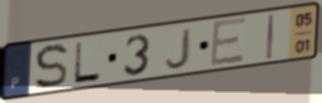3: (122, 32, 152, 78)
E: (208, 15, 249, 70)
I: (265, 12, 277, 61)
J: (163, 26, 195, 71)
L: (71, 40, 103, 85)
S: (33, 42, 70, 92)
